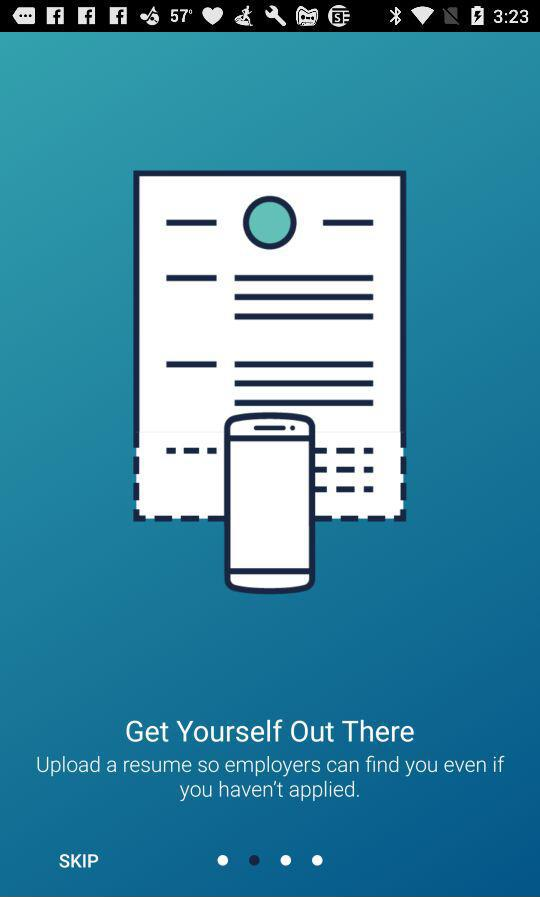Image: (133, 170, 407, 595)
PageIndicator: (216, 853, 326, 869)
Text: (36, 754, 505, 803), (126, 719, 415, 745), (59, 853, 101, 869)
UpperTaskBar: (1, 1, 540, 33)
